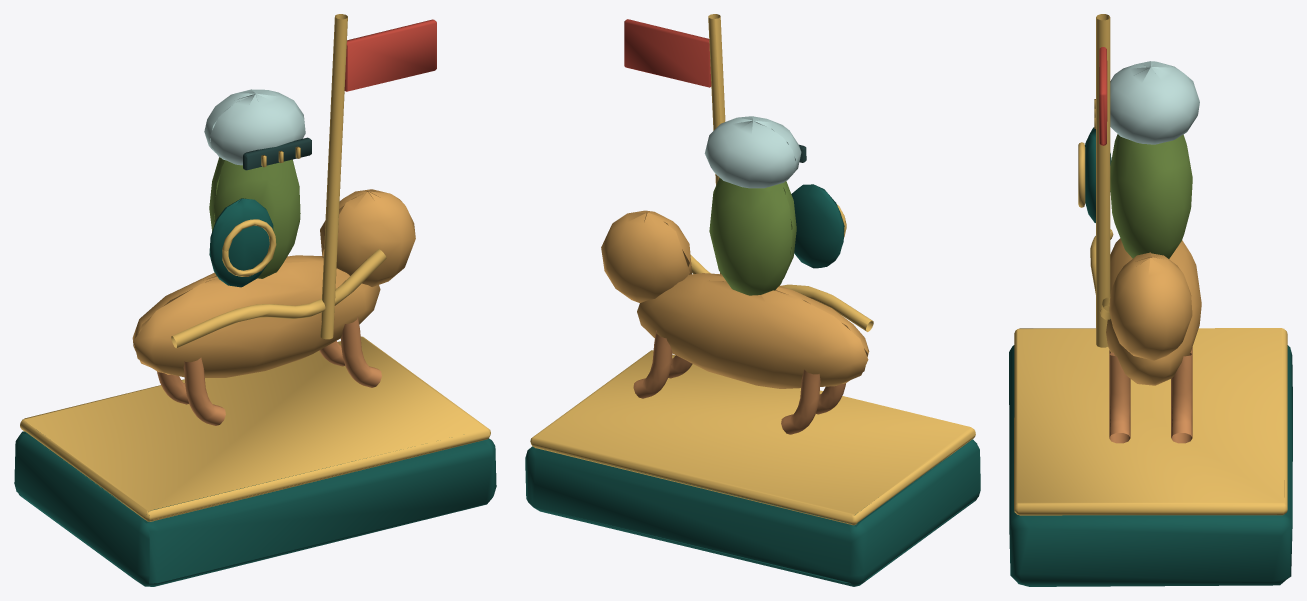
The picture shows the model from 3 angles, left to right: view 1: azimuth 30°, elevation 25°; view 2: azimuth 150°, elevation 25°; view 3: azimuth 270°, elevation 25°; orthographic projection. The views are drawn at different scales.
Visible parts, largest first — view 1: Brass welt, Jade footing, Corn dog steed, Steel helmet, Pickle knight, Crimson pennant, Tiny galloping legs, Visor; view 2: Brass welt, Jade footing, Corn dog steed, Pickle knight, Steel helmet, Crimson pennant, Tiny galloping legs; view 3: Brass welt, Jade footing, Corn dog steed, Pickle knight, Steel helmet, Tiny galloping legs, Crimson pennant.
Boxes of the visible parts, x1,y1,x2,y2 form: Brass welt: (20, 14, 490, 521); Jade footing: (14, 198, 496, 586); Corn dog steed: (132, 189, 415, 377); Steel helmet: (204, 89, 305, 165); Pickle knight: (209, 157, 300, 278); Crimson pennant: (344, 19, 436, 91); Tiny galloping legs: (157, 316, 381, 425); Visor: (243, 137, 311, 170); Brass welt: (530, 14, 975, 525); Jade footing: (525, 184, 980, 586); Corn dog steed: (601, 210, 869, 388); Pickle knight: (709, 178, 796, 295); Steel helmet: (704, 116, 801, 188); Crimson pennant: (624, 19, 711, 87); Tiny galloping legs: (633, 330, 845, 434); Brass welt: (1014, 14, 1287, 515); Jade footing: (1009, 127, 1292, 586); Corn dog steed: (1106, 238, 1201, 385); Pickle knight: (1110, 134, 1192, 258); Steel helmet: (1110, 61, 1199, 144); Tiny galloping legs: (1109, 347, 1192, 443); Crimson pennant: (1099, 47, 1107, 145).
Bounding box in the file's own units: 0.7364 × 0.9536 × 0.4764.
